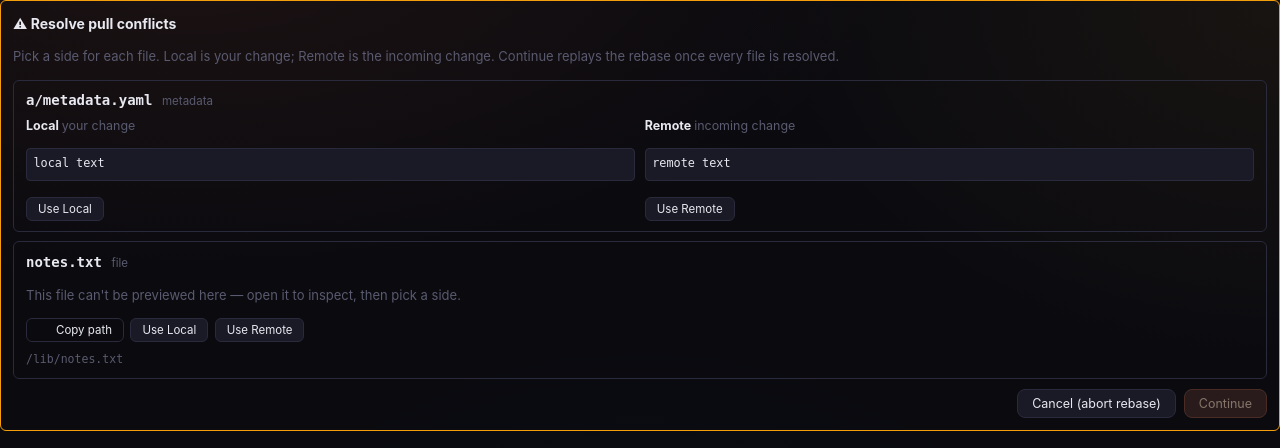
Test: ConflictResolver › Continue is disabled until every conflict is resolved
Expected: the button with test id "continue-pull" is disabled, [1184,389,1267,418]
Click the button "Use Local" below "local text" at {"x": 65, "y": 209}, box [26,197,104,221]
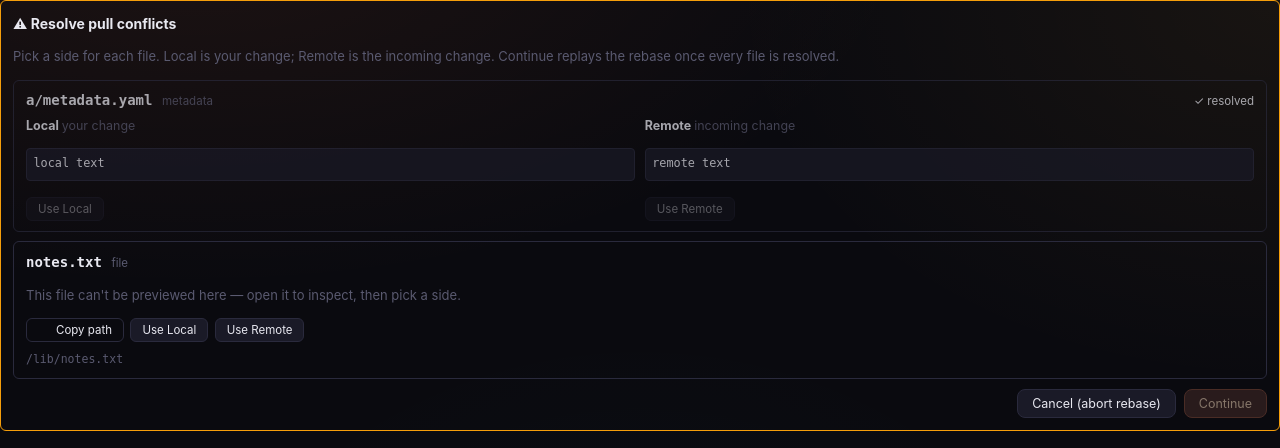
Expected: the button with test id "continue-pull" is disabled, [1184,389,1267,418]
Click the 2nd button "Use Remote" at {"x": 260, "y": 330}, box [215,318,304,342]
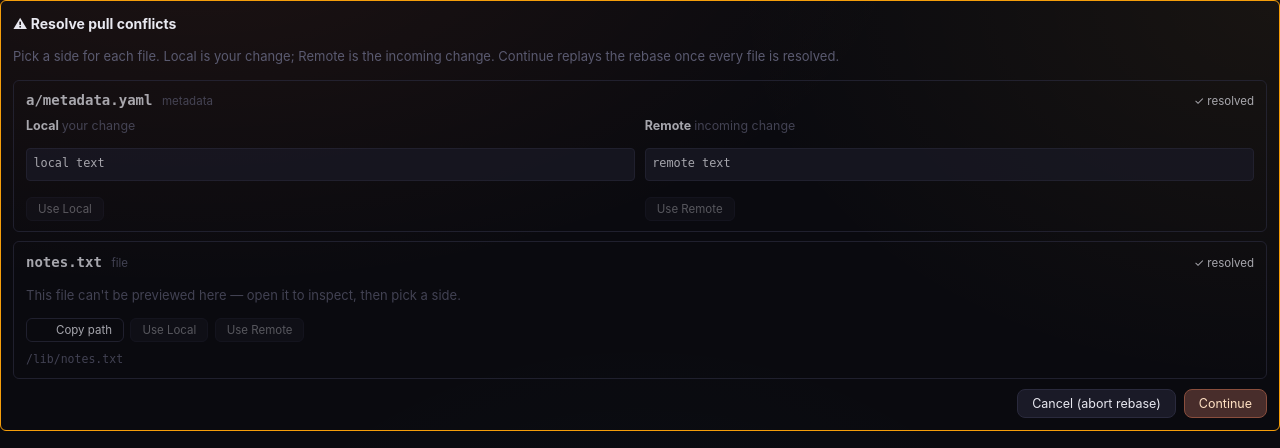
Expected: the button with test id "continue-pull" is enabled, [1184,389,1267,418]
